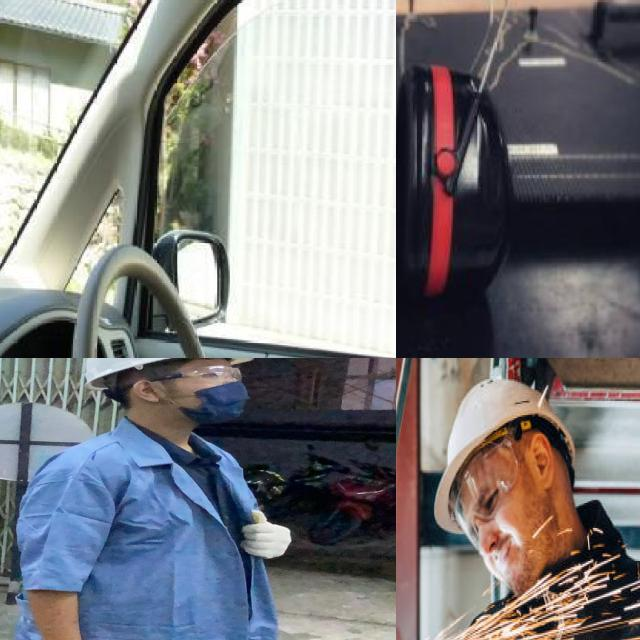Ear-protection: (396, 0, 518, 297)
No_Ear-Protection: (531, 437, 555, 489)
face_mask: (159, 358, 251, 425)
face_nomask: (478, 462, 556, 595)
glasses: (458, 436, 518, 547), (153, 364, 250, 385)
hand_glove: (235, 512, 299, 559)
head_helmet: (434, 379, 573, 532), (73, 358, 259, 381)
person: (0, 358, 326, 640)
